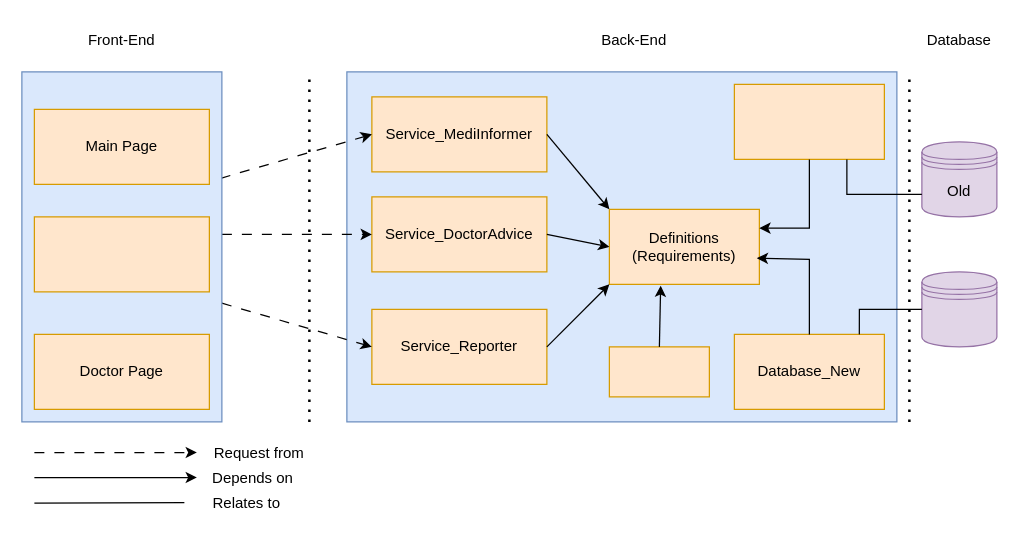
This 1019x533 diagram has some shape labels left out. Here are the shapes that lost their labels. From the top down, the centre of each, then its label:
[808,121]: Database_Old
[121,254]: Patient Page
[959,309]: New
[658,371]: Domain
